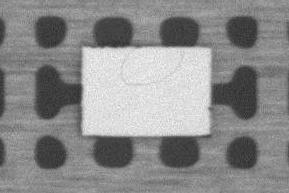DIE_CRACK: (121, 48, 182, 84)
